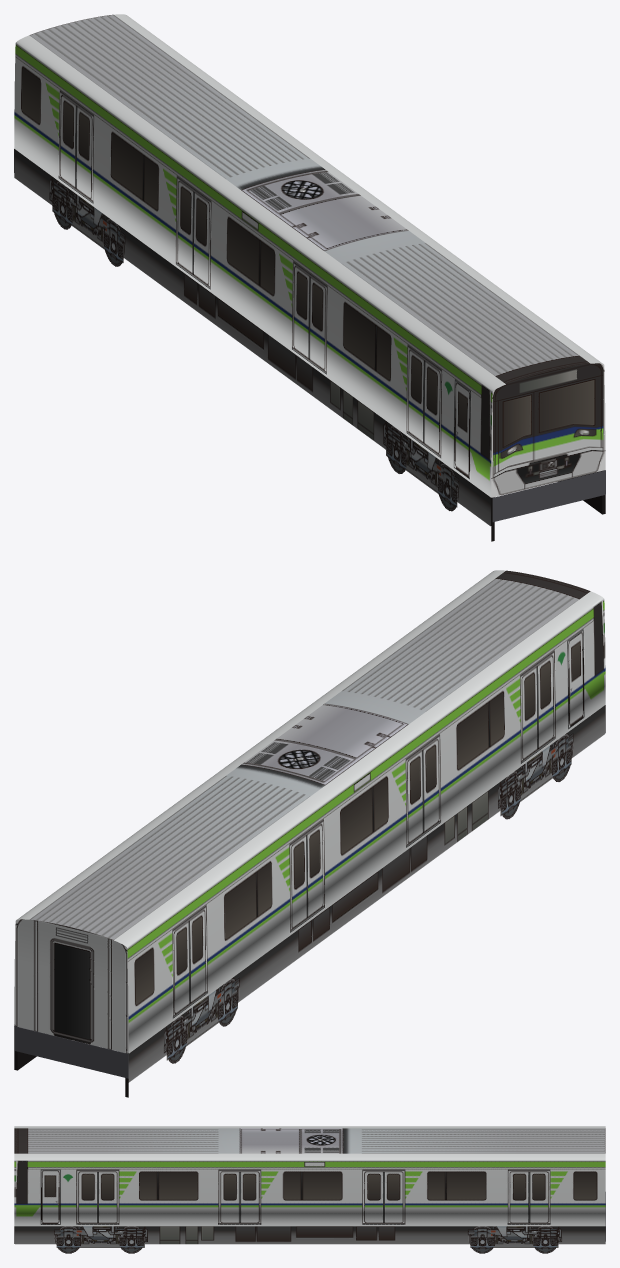
The model's file is car1.glb.
3 renders of one model, top to bottom at view 1: azimuth 30°, elevation 25°; view 2: azimuth 150°, elevation 25°; view 3: azimuth 270°, elevation 25°, orthographic. The views are drawn at different scales.
Visible parts, largest first — view 1: toei10300-car1; view 2: toei10300-car1; view 3: toei10300-car1.
Part boxes in pixels (bbox=[...]): toei10300-car1: bbox=[14, 14, 605, 541]; toei10300-car1: bbox=[14, 570, 605, 1097]; toei10300-car1: bbox=[14, 1126, 605, 1253].
Bounding box in the file's own units: 2.79 × 3.64 × 20.18.
8 materials, 7 textured.
